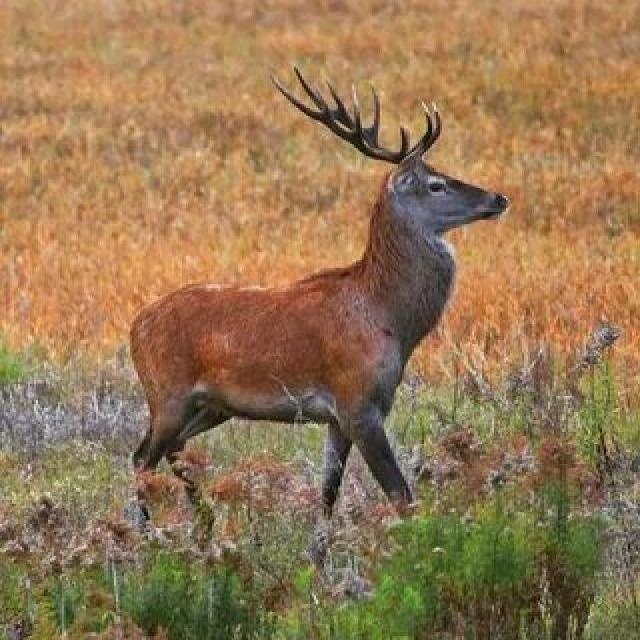deer: (106, 66, 624, 566)
